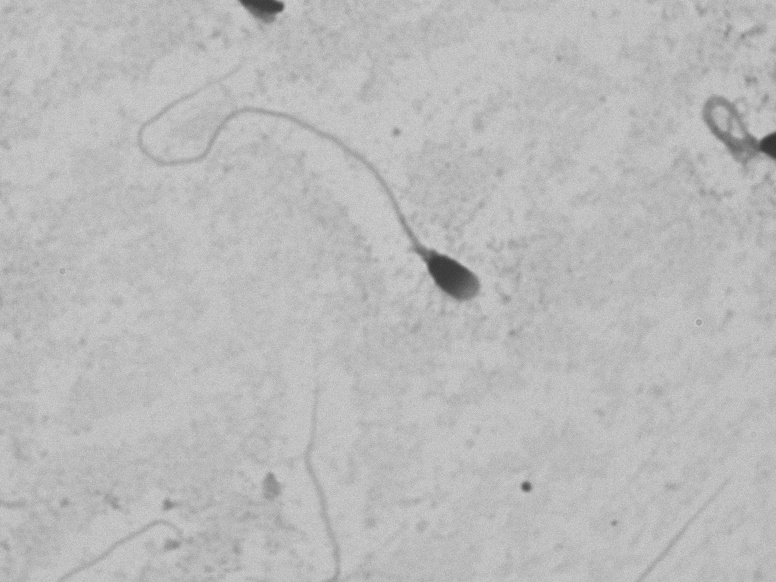Normal: (103, 38, 507, 329)
